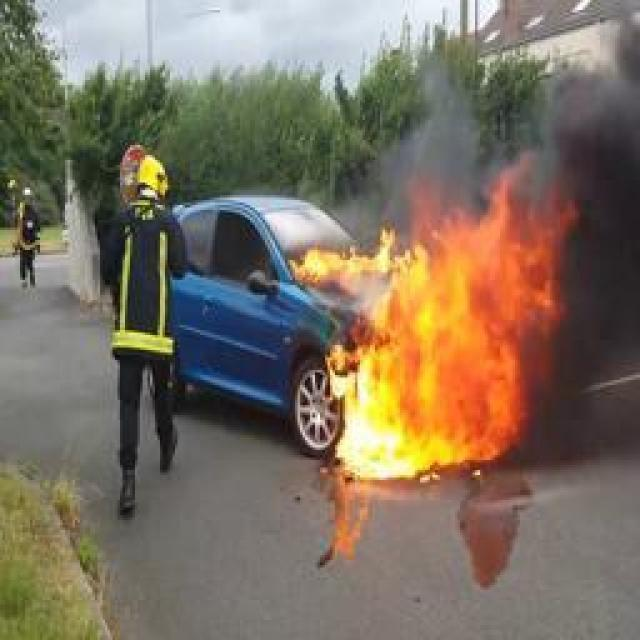Fire: (284, 156, 578, 484), (288, 225, 412, 285)
